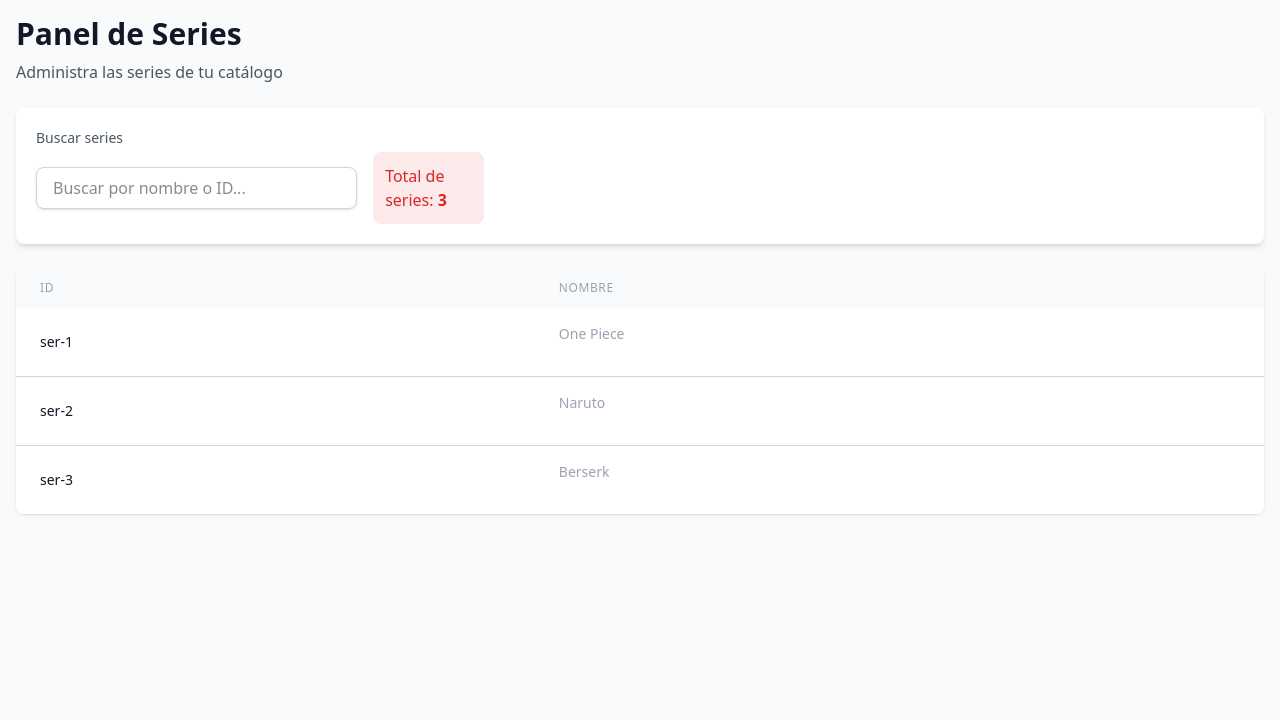
Test: SeriesTable › entra en modo edicion al hacer doble clic
Double-click the text "One Piece" at (592, 334), box [559,324,624,343]
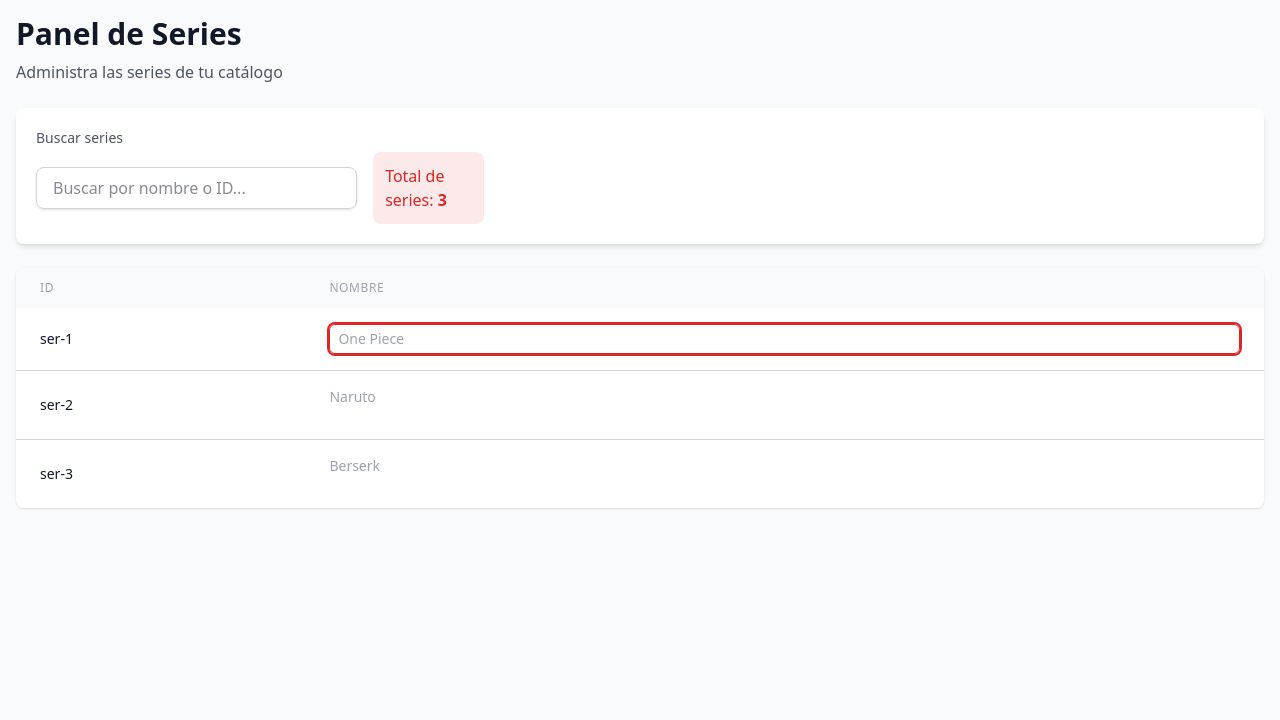
Expected: the 2nd field holds "One Piece", [329,324,1240,354]
